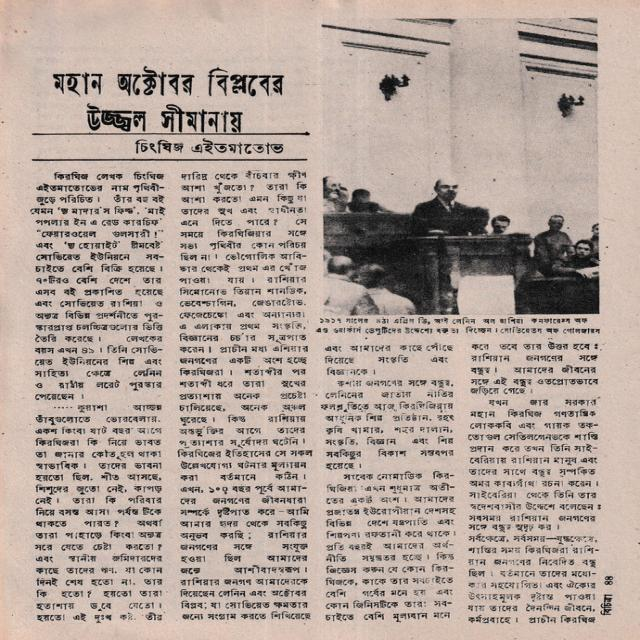caption: (316, 316, 600, 335)
image: (321, 15, 599, 315)
page number: (603, 575, 615, 586)
paragraph: (175, 169, 312, 621), (30, 171, 166, 402), (34, 404, 165, 624), (324, 470, 457, 622), (469, 398, 603, 534), (321, 379, 457, 470), (469, 533, 598, 624), (469, 341, 598, 396), (324, 342, 453, 376)
text: (134, 139, 284, 157), (600, 594, 613, 616)
title: (52, 66, 285, 132)
